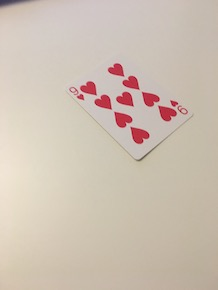NineOfHearts: (62, 52, 195, 165)
